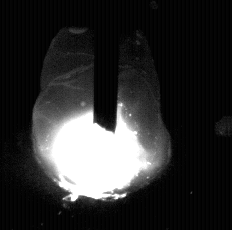arame: (94, 0, 118, 133)
poca: (32, 0, 171, 230)
